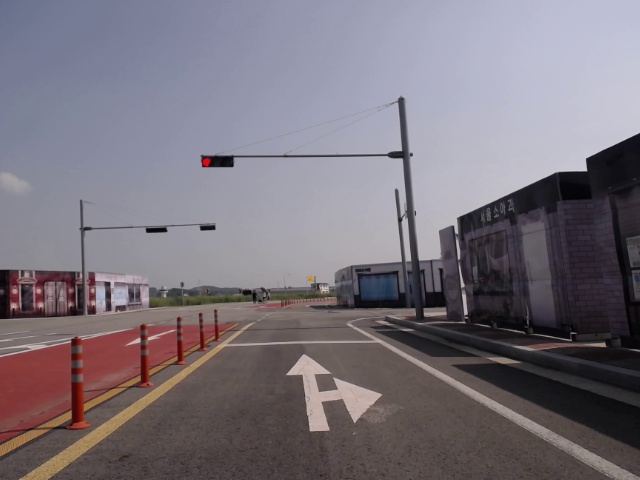red_3: (201, 155, 234, 168)
